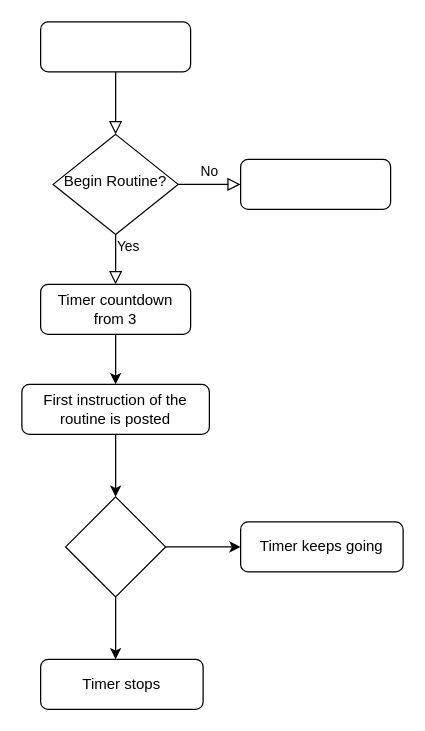
Some shapes in this 425 by 731 pixel diagram are drawn without their labels. Here are the shapes that lost their labels. From the top down, the box of each, then its label:
(39, 21, 191, 72): Timer Set at 0
(239, 158, 391, 209): Timer stays at 0
(64, 496, 166, 597): Stop?
